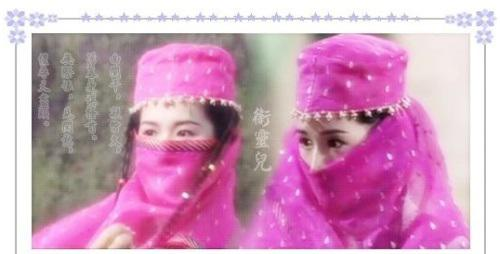OK: (139, 114, 216, 199)
WRONG: (295, 122, 378, 204)
